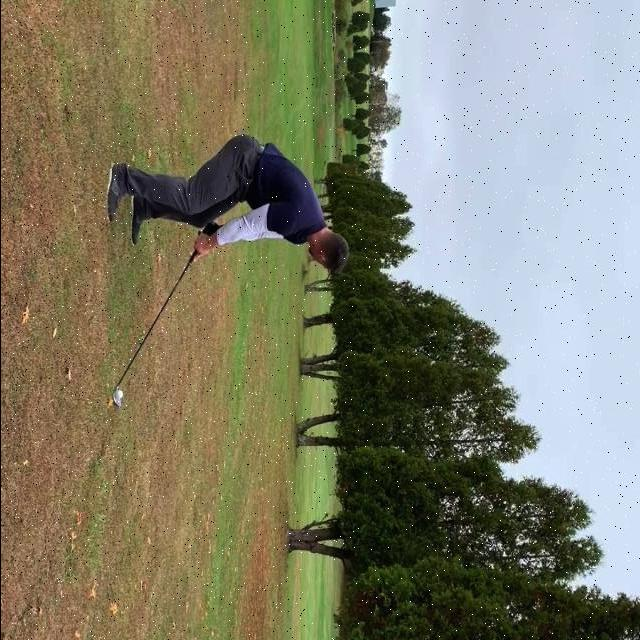ClubHandle: (109, 220, 216, 411)
ClubHead: (112, 391, 120, 408)
GolfBall: (117, 389, 122, 398)
